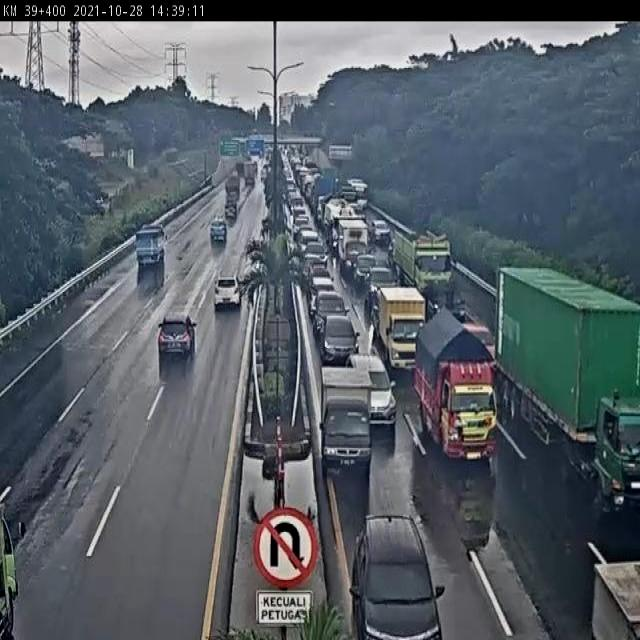Car: (349, 512, 445, 640), (321, 398, 374, 479), (351, 352, 397, 428), (0, 504, 21, 636), (319, 313, 359, 367), (155, 310, 198, 360), (314, 290, 346, 334), (365, 265, 397, 303), (214, 274, 242, 308), (303, 240, 327, 267), (298, 228, 320, 255), (371, 220, 392, 246), (309, 260, 332, 282), (210, 218, 227, 243), (353, 198, 368, 215)
Truck: (495, 261, 640, 494), (413, 309, 498, 463), (394, 230, 454, 314), (371, 285, 426, 372), (262, 297, 294, 372), (334, 216, 370, 279), (135, 224, 167, 271), (322, 198, 352, 243), (392, 230, 416, 286), (137, 259, 164, 298), (314, 171, 338, 203), (317, 193, 334, 226), (300, 174, 317, 206), (281, 198, 293, 238), (346, 178, 368, 198), (340, 186, 358, 202), (303, 156, 317, 170)
